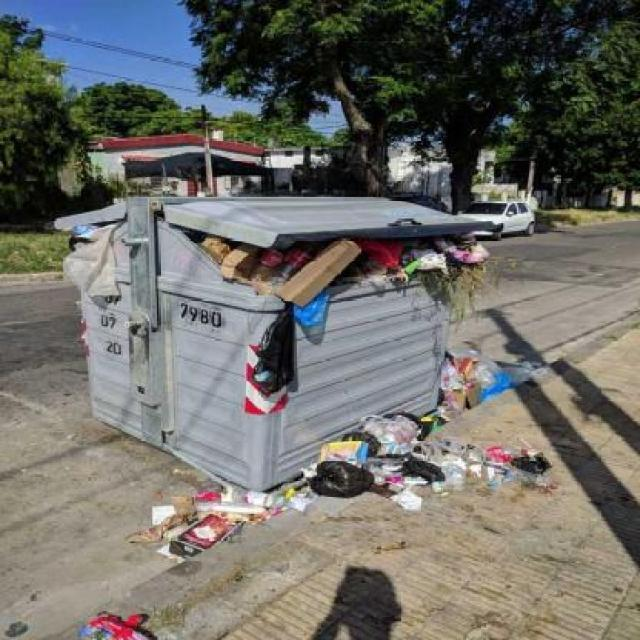garbage: (194, 231, 527, 418), (285, 403, 542, 509), (125, 480, 320, 558), (59, 220, 134, 306), (417, 352, 556, 398), (66, 603, 164, 638)
